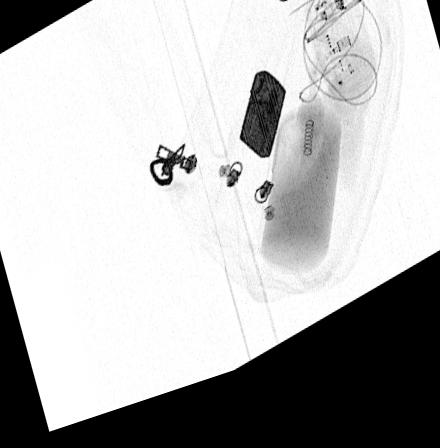Lighter: (239, 84, 286, 175)
